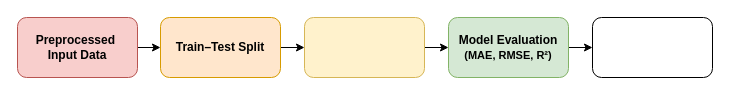
The diagram is 730 pixels wide and 95 high, and some of its shapes have lost their labels. Each missing label, with the centre of its shape:
Model Training (Random Forest, XGBoost, Baseline Models): (x=364, y=47)
Results & Interpretability (SHAP, Visualizations): (x=652, y=47)
